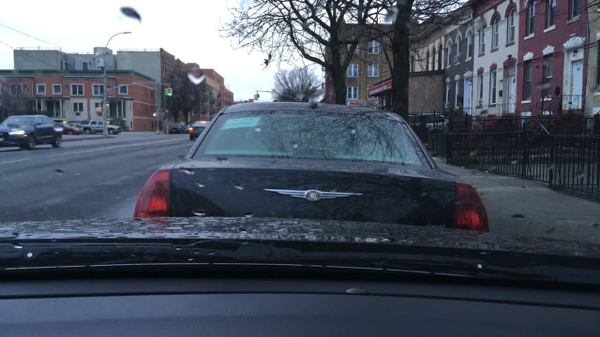car: (133, 100, 490, 233), (0, 114, 63, 148), (405, 111, 451, 139), (190, 120, 211, 140), (57, 120, 82, 136), (168, 120, 186, 136), (184, 122, 194, 131)
traffic light: (167, 87, 172, 97), (164, 88, 168, 99), (96, 107, 102, 114), (256, 91, 260, 100), (251, 93, 256, 99), (153, 112, 156, 118)
traffic sign: (151, 107, 162, 111), (96, 95, 103, 99)
truck: (78, 119, 122, 135)
